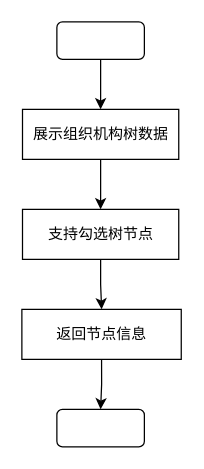
The diagram is 204 pixels wide and 469 high, and some of its shapes have lost their labels. Each missing label, with the box of its shape:
开始: (56, 21, 144, 59)
结束: (56, 408, 144, 447)
